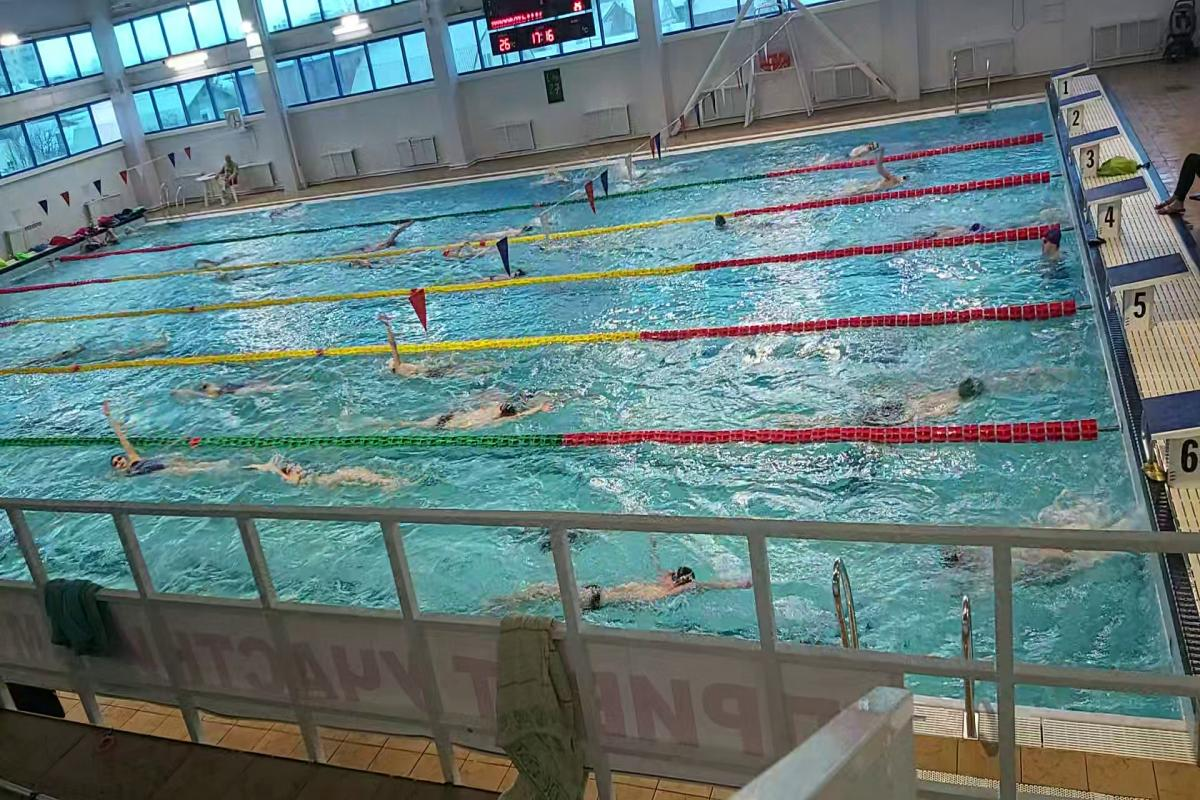swimmer: (582, 544, 747, 624), (869, 352, 997, 427), (78, 426, 233, 484), (254, 444, 415, 496), (168, 366, 314, 410), (360, 335, 475, 382), (412, 391, 562, 427), (853, 154, 917, 186), (1030, 224, 1071, 266), (916, 218, 998, 236), (364, 225, 420, 249), (434, 240, 477, 264), (466, 225, 538, 238), (482, 262, 528, 280)
